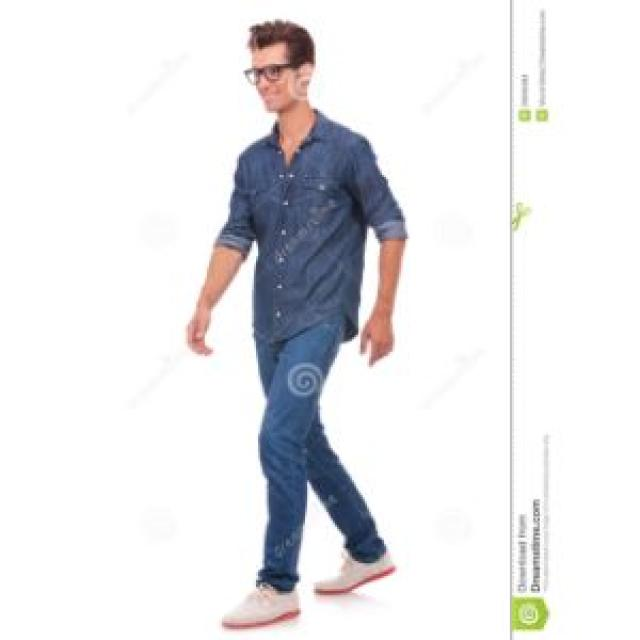nonfall: (140, 22, 449, 620)
